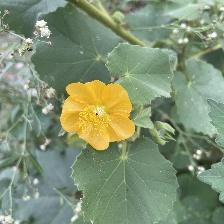indian mallow: (59, 80, 139, 151)
